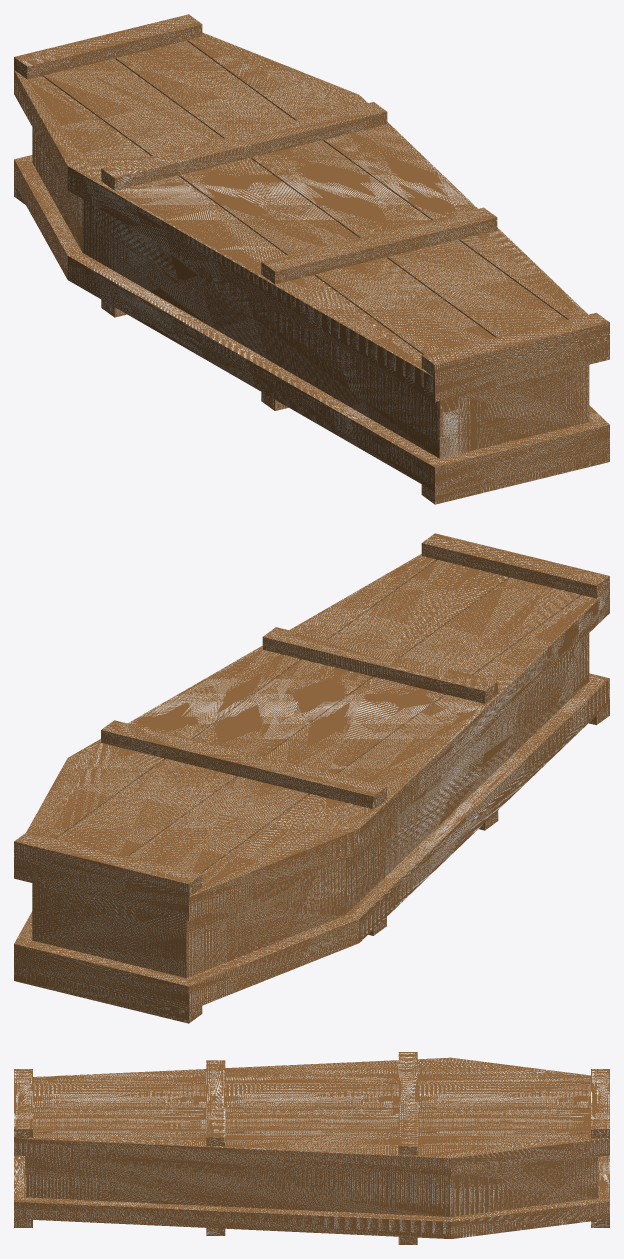
Rendered from Graveyard_Casket_Wooden_01.fbx.
3 renders of one model, top to bottom at view 1: azimuth 30°, elevation 25°; view 2: azimuth 150°, elevation 25°; view 3: azimuth 270°, elevation 25°, orthographic. The views are drawn at different scales.
Parts seen in each view (by area): view 1: Model; view 2: Model; view 3: Model.
Part boxes in pixels (bbox=[...]): Model: bbox=[14, 14, 609, 504]; Model: bbox=[14, 533, 609, 1023]; Model: bbox=[14, 1052, 609, 1244].
Bounding box in the file's own units: 403 × 184 × 1007.
